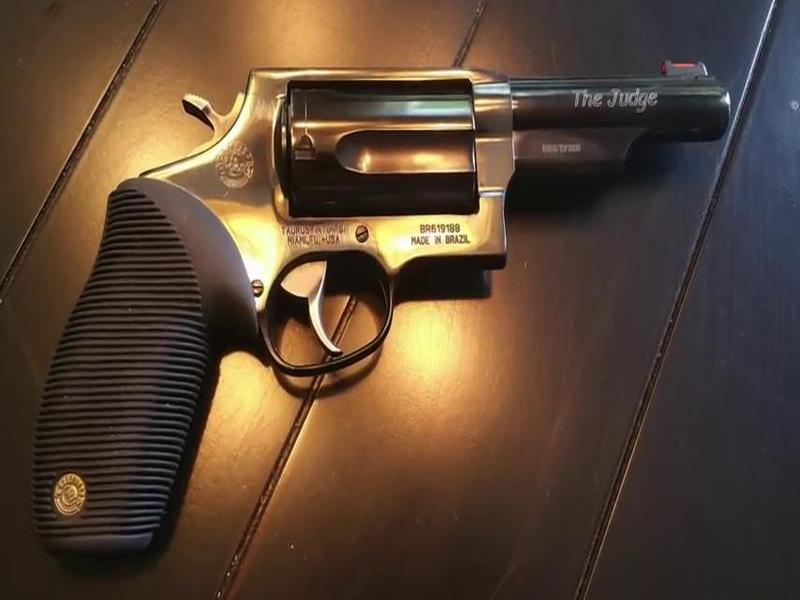Revolver: (40, 61, 706, 534)
